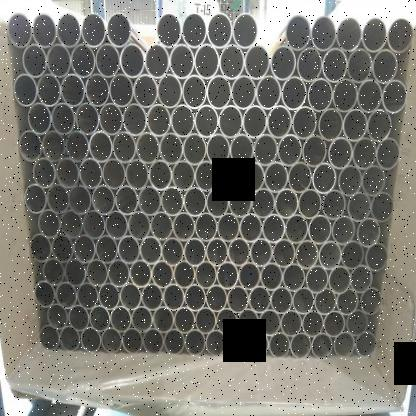pipe: (386, 16, 415, 53), (361, 15, 388, 53), (310, 14, 337, 52), (269, 44, 297, 80), (284, 14, 312, 50), (346, 47, 373, 84), (321, 46, 348, 83), (371, 48, 398, 84), (232, 12, 259, 48), (206, 12, 233, 48), (181, 12, 208, 48), (6, 12, 33, 48), (296, 46, 323, 82), (22, 42, 48, 79), (144, 42, 170, 79), (244, 43, 270, 80), (381, 79, 408, 114), (168, 43, 195, 78), (307, 77, 333, 113), (206, 74, 232, 110), (156, 12, 182, 48), (336, 16, 362, 52), (81, 12, 107, 48), (281, 75, 307, 111), (71, 42, 96, 79), (106, 12, 132, 47), (332, 78, 358, 113), (122, 102, 148, 137), (46, 43, 72, 78), (157, 73, 182, 109), (219, 43, 244, 79), (85, 72, 110, 108), (256, 74, 281, 110), (194, 43, 219, 79), (96, 42, 121, 78), (32, 12, 57, 48), (120, 42, 145, 78), (56, 12, 81, 48), (291, 106, 318, 139), (317, 107, 343, 141), (146, 103, 172, 137), (60, 73, 86, 107), (342, 107, 367, 142), (109, 73, 134, 108), (182, 74, 207, 109), (327, 137, 354, 169), (301, 135, 328, 167), (232, 74, 256, 110), (74, 102, 100, 135), (266, 105, 292, 138), (170, 104, 196, 137), (50, 102, 76, 135), (218, 104, 243, 138), (194, 104, 219, 138), (37, 73, 62, 107), (13, 73, 38, 107), (277, 133, 302, 167), (357, 79, 382, 113), (367, 108, 391, 143), (134, 73, 158, 108), (337, 164, 363, 196), (311, 162, 337, 194), (64, 130, 90, 162), (352, 137, 377, 170), (243, 105, 268, 138), (99, 102, 123, 136), (28, 101, 52, 135), (136, 131, 160, 165), (253, 134, 278, 166), (91, 184, 116, 216), (41, 130, 66, 162), (240, 161, 265, 193), (361, 164, 385, 197), (376, 137, 400, 170), (194, 159, 218, 192), (206, 133, 230, 166), (89, 130, 113, 163), (102, 157, 126, 190), (159, 132, 183, 165), (172, 159, 196, 192), (32, 156, 56, 189), (56, 156, 80, 189), (331, 215, 356, 246), (347, 191, 372, 222), (288, 161, 312, 193), (230, 134, 254, 166), (183, 133, 207, 165), (126, 158, 150, 190), (264, 161, 288, 193), (114, 184, 138, 216), (24, 183, 48, 215), (112, 131, 136, 163), (79, 157, 103, 189), (148, 159, 172, 191), (298, 188, 322, 219), (275, 188, 299, 219), (308, 214, 332, 245), (172, 211, 196, 242), (18, 130, 42, 161), (183, 186, 207, 217), (138, 185, 162, 216), (160, 186, 184, 217), (82, 209, 106, 240), (46, 183, 70, 214), (68, 184, 92, 215), (370, 191, 393, 223), (284, 214, 308, 244), (322, 190, 346, 220), (318, 240, 342, 270), (194, 212, 218, 242), (356, 217, 380, 247), (261, 213, 285, 243), (251, 188, 275, 218), (272, 238, 296, 268), (217, 212, 240, 243), (229, 187, 252, 218), (38, 208, 61, 239), (218, 160, 240, 192), (295, 240, 319, 269), (304, 264, 328, 293), (282, 263, 306, 292), (340, 241, 364, 270), (150, 211, 173, 241), (206, 187, 229, 217), (228, 237, 251, 267), (105, 210, 128, 240), (95, 234, 118, 264), (73, 234, 96, 264), (107, 258, 130, 288), (128, 210, 151, 240), (60, 209, 83, 239), (336, 288, 360, 316), (194, 261, 218, 289), (328, 265, 351, 294), (117, 235, 140, 264), (161, 237, 184, 266), (216, 261, 239, 290), (365, 242, 388, 271), (260, 262, 283, 291), (51, 234, 74, 263), (238, 261, 260, 291), (30, 233, 52, 263), (292, 287, 315, 315), (350, 265, 373, 293), (173, 306, 196, 334), (240, 213, 262, 242), (140, 236, 162, 265), (250, 238, 272, 267), (270, 286, 292, 315), (184, 237, 206, 266), (206, 237, 228, 266), (98, 282, 120, 311), (86, 258, 108, 287), (206, 284, 228, 313), (130, 259, 152, 288), (43, 257, 65, 286), (323, 310, 346, 337), (314, 288, 337, 315), (173, 261, 196, 288), (290, 332, 312, 360), (120, 283, 142, 311), (280, 309, 302, 337), (141, 283, 163, 311), (311, 332, 333, 360), (346, 309, 368, 337), (334, 331, 356, 359), (184, 284, 206, 312), (152, 260, 174, 288), (268, 331, 290, 359), (227, 285, 249, 313), (34, 280, 56, 308), (64, 258, 86, 286), (216, 307, 238, 335), (162, 283, 184, 311), (132, 305, 154, 333), (205, 329, 227, 357), (302, 310, 324, 337), (68, 304, 90, 331), (77, 282, 99, 309), (258, 309, 280, 336), (248, 286, 270, 313), (247, 331, 269, 358), (142, 328, 164, 355), (152, 306, 174, 333), (194, 307, 216, 334), (184, 329, 206, 356), (238, 308, 260, 335), (360, 288, 382, 315), (110, 305, 131, 333), (39, 324, 60, 351), (47, 303, 68, 330), (101, 327, 122, 354), (226, 330, 247, 357), (56, 281, 76, 309), (122, 328, 143, 354), (90, 305, 110, 332), (356, 331, 376, 358), (80, 328, 102, 352), (60, 326, 80, 352), (164, 329, 184, 355)
